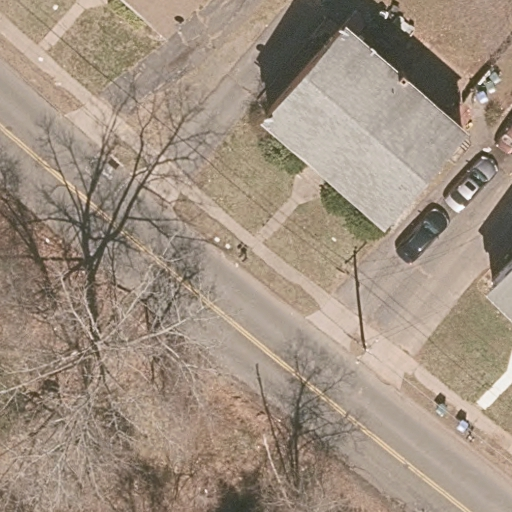DT: (355, 336, 378, 364)
